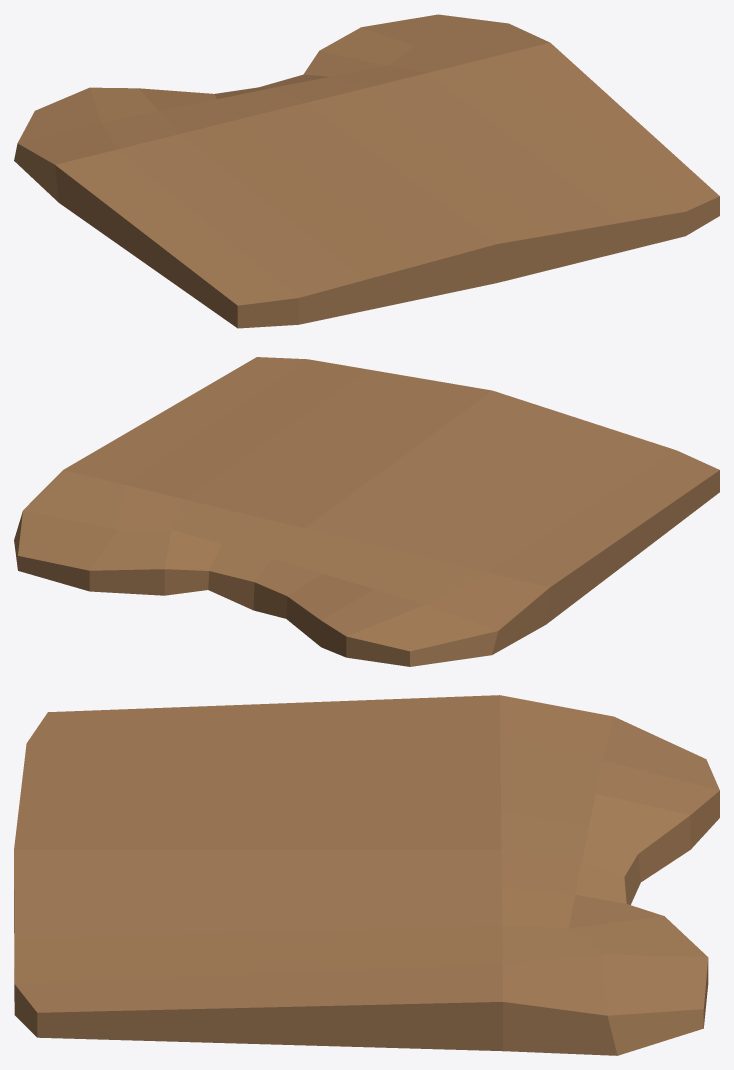
The model's file is Toast.fbx.
3 views of the same model, one above another, from view 1: azimuth 30°, elevation 25°; view 2: azimuth 150°, elevation 25°; view 3: azimuth 270°, elevation 25° (orthographic). The views are drawn at different scales.
Visible parts, largest first — view 1: Cube.001; view 2: Cube.001; view 3: Cube.001.
Part boxes in pixels (box(x1,y1,x2,y2)): Cube.001: box(14, 14, 719, 328); Cube.001: box(14, 357, 719, 666); Cube.001: box(14, 695, 719, 1055).
Size of the model in its own units: 29.91 by 2.76 by 28.77.
